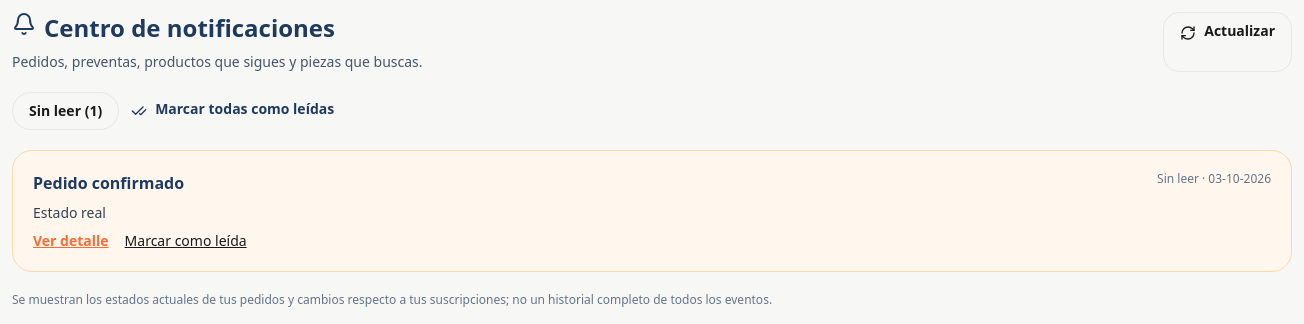
Test: Customer notification screen › renders server-confirmed reads and filters unread notices
Click the button "Marcar todas como leídas". click: [233, 111]
box: [131,99,334,123]
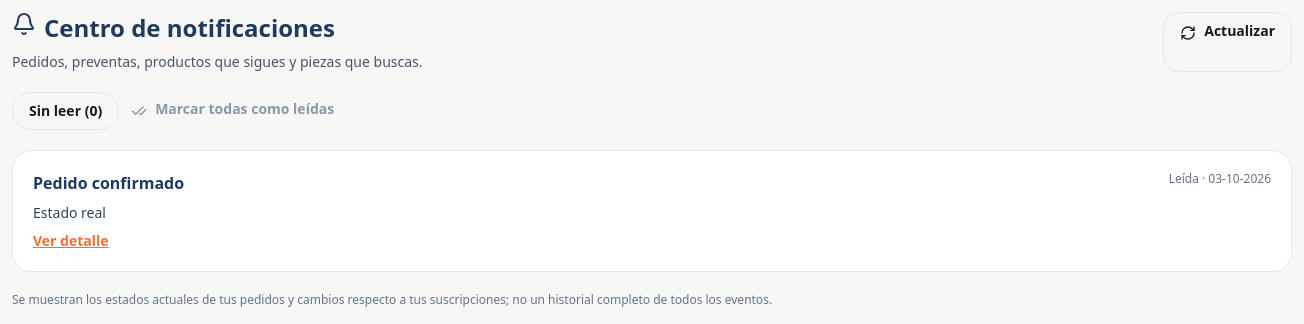
Click the button "Sin leer (0)". click: [66, 111]
box: [12,92,119,130]
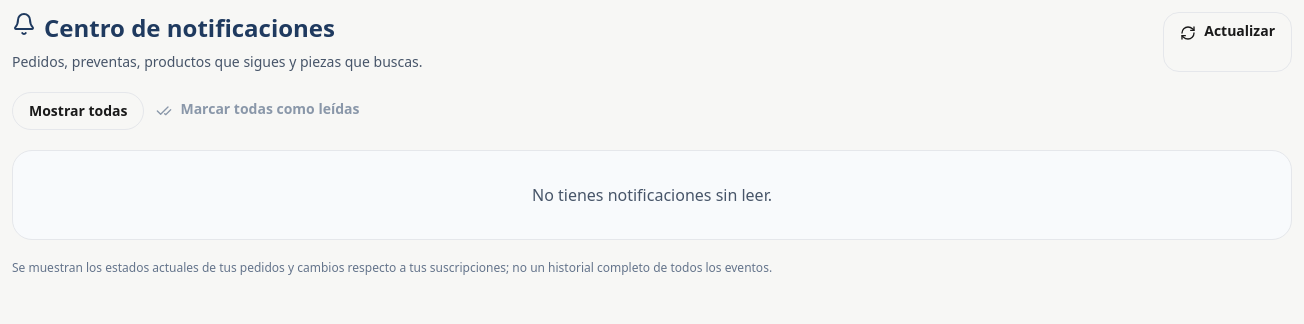
Check: the text "No tienes notificaciones sin leer." is shown, box [12,150,1292,240]
